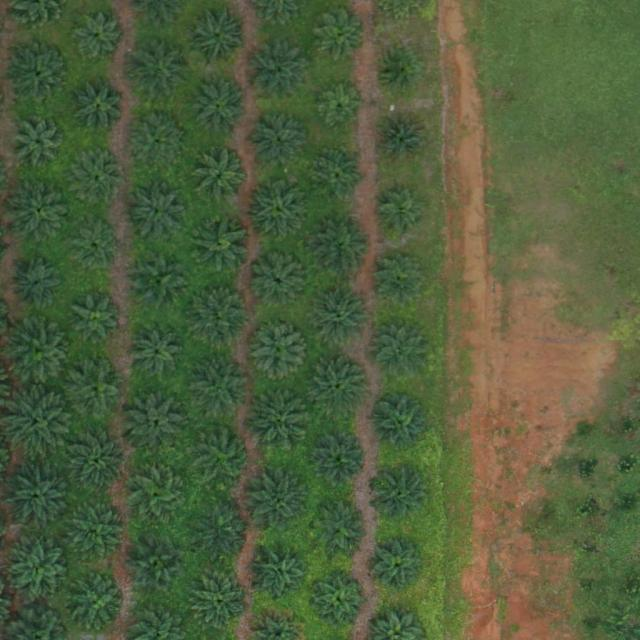Healthy: (3, 387, 73, 458), (5, 462, 75, 533), (245, 41, 308, 104), (129, 39, 192, 102), (10, 180, 73, 243), (9, 322, 72, 385), (129, 250, 192, 313), (312, 286, 375, 349), (247, 179, 310, 241), (186, 4, 248, 67), (189, 214, 251, 277), (9, 43, 72, 105), (64, 359, 127, 421), (67, 501, 129, 564), (125, 389, 188, 451), (189, 283, 251, 346), (192, 359, 254, 422), (249, 321, 311, 384), (248, 390, 310, 453), (249, 473, 311, 536), (308, 356, 370, 419), (370, 393, 432, 456), (310, 217, 372, 279), (126, 181, 188, 243), (194, 427, 256, 489), (193, 502, 255, 564), (253, 255, 308, 311), (313, 149, 368, 204), (251, 114, 306, 169), (193, 151, 248, 206), (72, 13, 127, 68), (13, 114, 68, 169), (12, 544, 67, 599), (131, 327, 186, 382), (130, 466, 185, 521), (132, 540, 187, 595), (311, 433, 366, 488), (313, 503, 368, 558), (373, 252, 428, 307), (373, 324, 428, 379), (375, 468, 430, 523), (373, 539, 428, 594), (254, 548, 309, 603), (194, 575, 249, 630), (69, 577, 124, 632), (192, 82, 246, 137), (131, 119, 185, 174), (72, 434, 126, 489), (312, 573, 366, 628), (77, 85, 124, 133), (16, 261, 63, 309), (74, 294, 121, 342), (76, 155, 123, 202), (71, 227, 118, 274)
Small: (374, 189, 429, 244), (312, 7, 366, 62), (376, 114, 430, 169), (319, 86, 366, 133), (379, 50, 419, 90)
